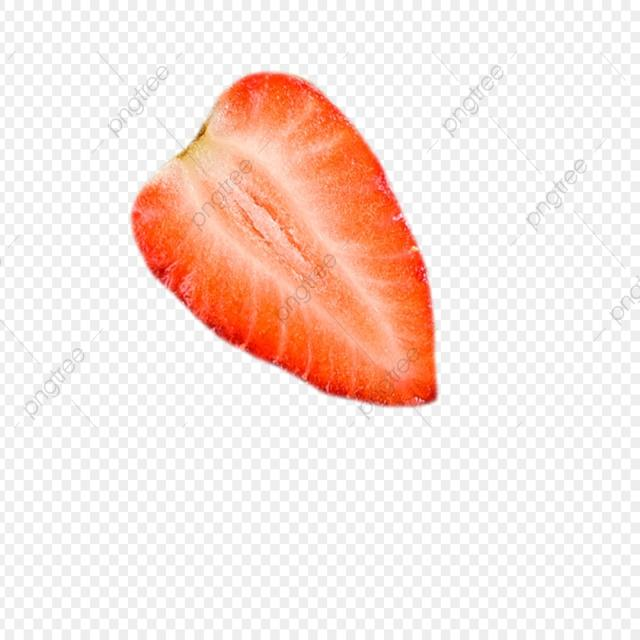strawberry: (119, 40, 451, 416)
